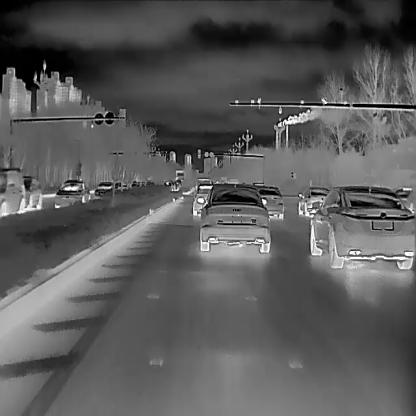car: (309, 185, 415, 268), (198, 183, 271, 253), (0, 168, 25, 216), (53, 180, 89, 210), (257, 184, 284, 219), (18, 176, 42, 214), (297, 187, 328, 216), (192, 183, 216, 215), (92, 180, 112, 202), (195, 178, 211, 194)
